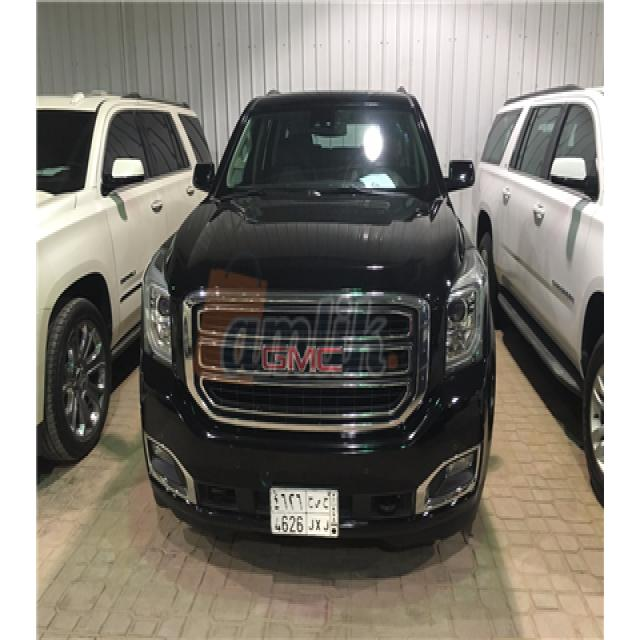license_plate: (268, 486, 340, 538)
